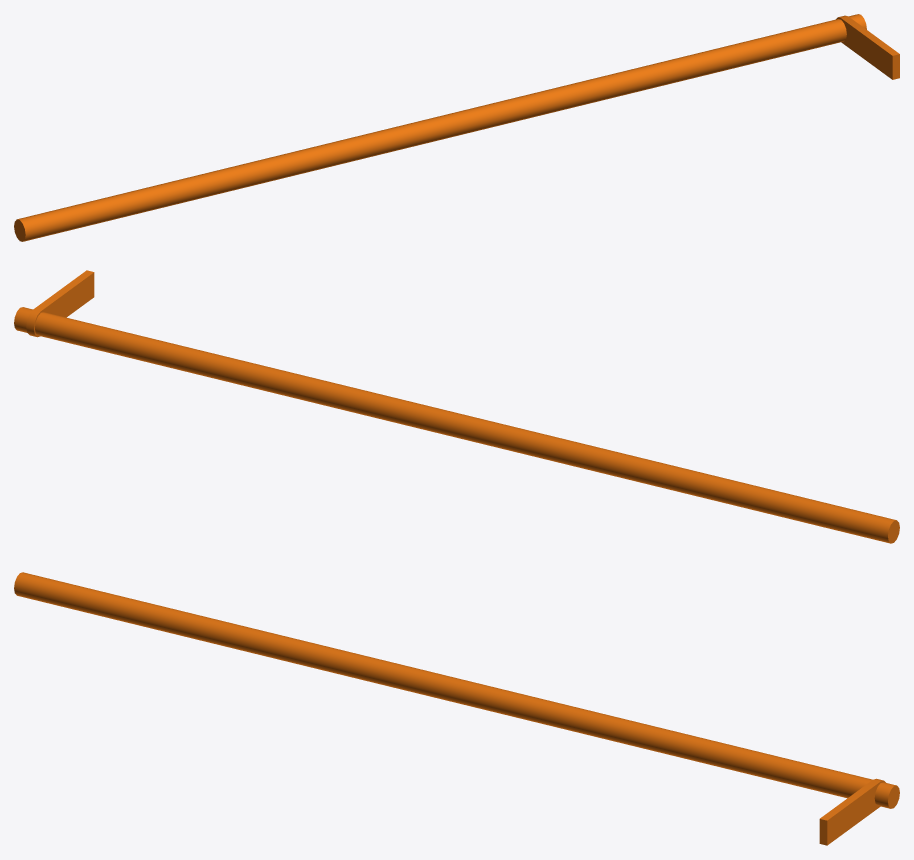
Rendered from Pipe_5m_01_mesh.fbx.
The picture shows the model from 3 angles, top to bottom: view 1: azimuth 30°, elevation 25°; view 2: azimuth 150°, elevation 25°; view 3: azimuth 330°, elevation 25°; orthographic projection. The views are drawn at different scales.
Visible parts, largest first — view 1: Cylinder.011; view 2: Cylinder.011; view 3: Cylinder.011.
Boxes of the visible parts, x1,y1,x2,y2 form: Cylinder.011: (14, 14, 899, 241); Cylinder.011: (14, 270, 899, 543); Cylinder.011: (14, 572, 899, 845).
Bounding box in the file's own units: 13.68 × 500 × 59.93.
